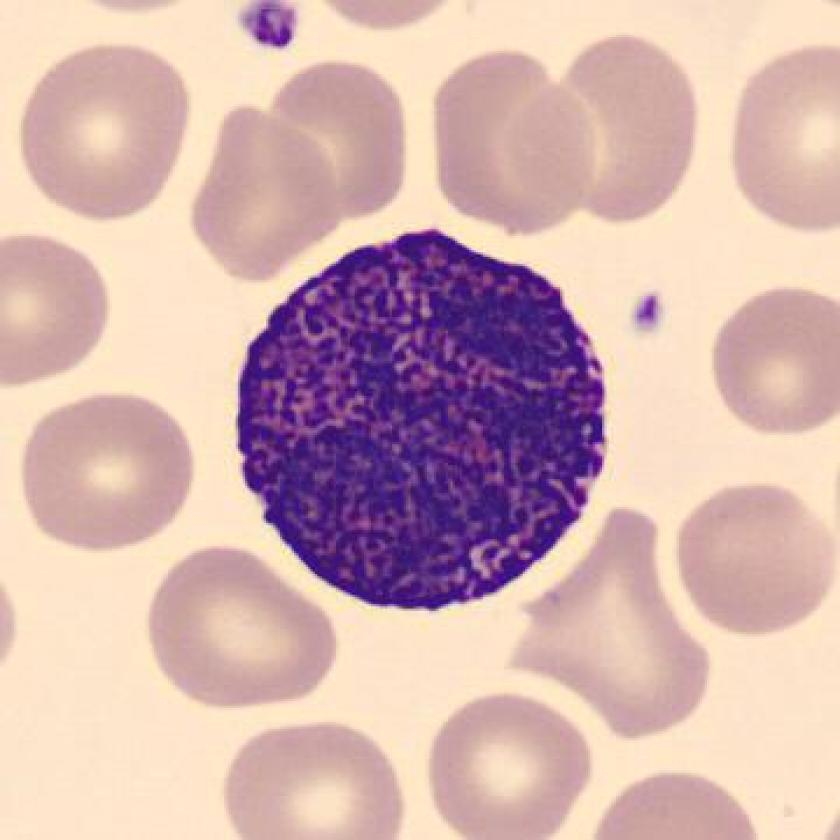basophil: (228, 223, 620, 617)
